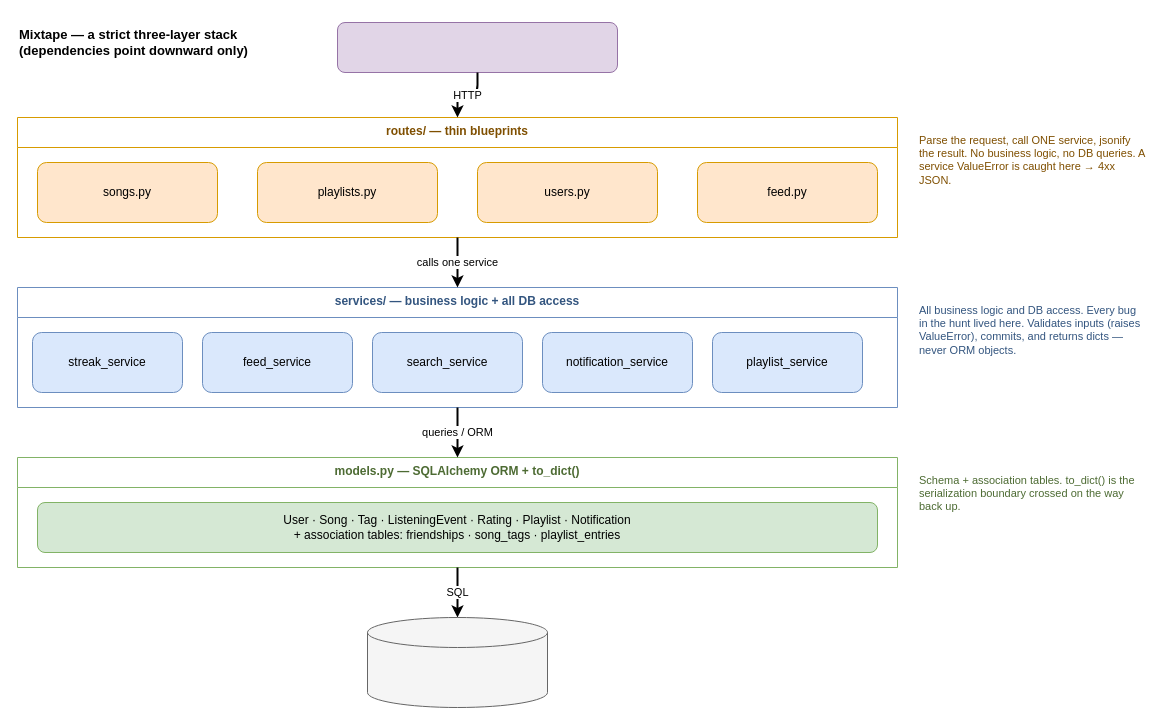
Image size: 1165x725. Some labels were removed from this diagram. The centre of each missing label's shape, as x and y in pixels:
HTTP request → JSON response: point (477, 47)
SQLite (mixtape.db): point (457, 662)
